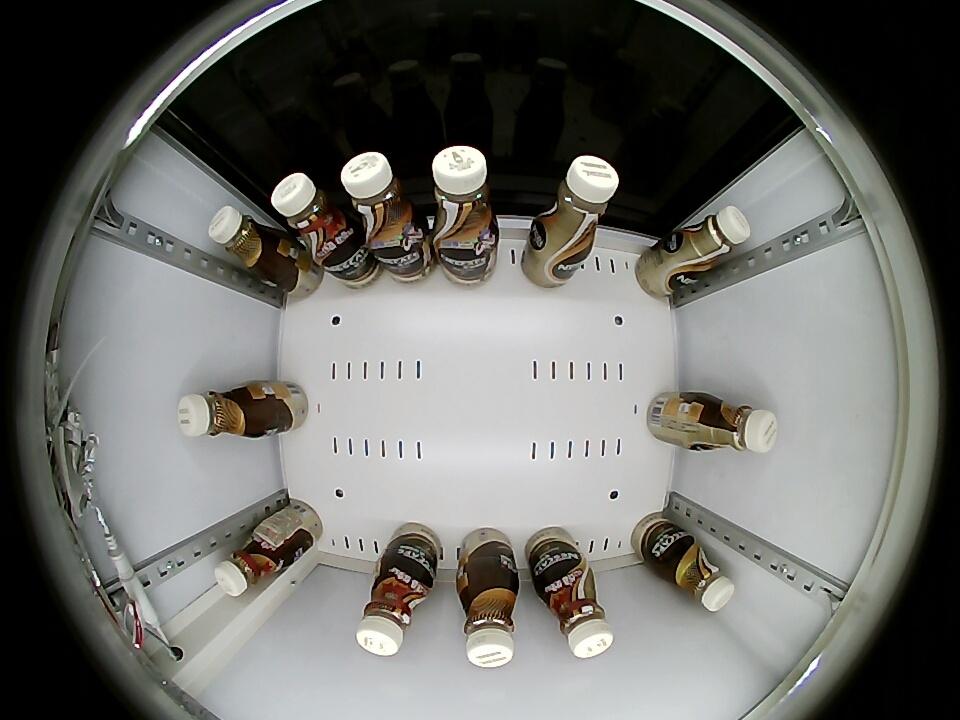kafei: (532, 155, 619, 257), (533, 550, 614, 659), (356, 553, 438, 658), (272, 172, 358, 262), (342, 151, 422, 247), (429, 145, 499, 248), (458, 566, 520, 668), (672, 205, 752, 278), (207, 206, 283, 275), (691, 394, 778, 454), (665, 539, 735, 612), (215, 528, 288, 596), (178, 384, 265, 441)
